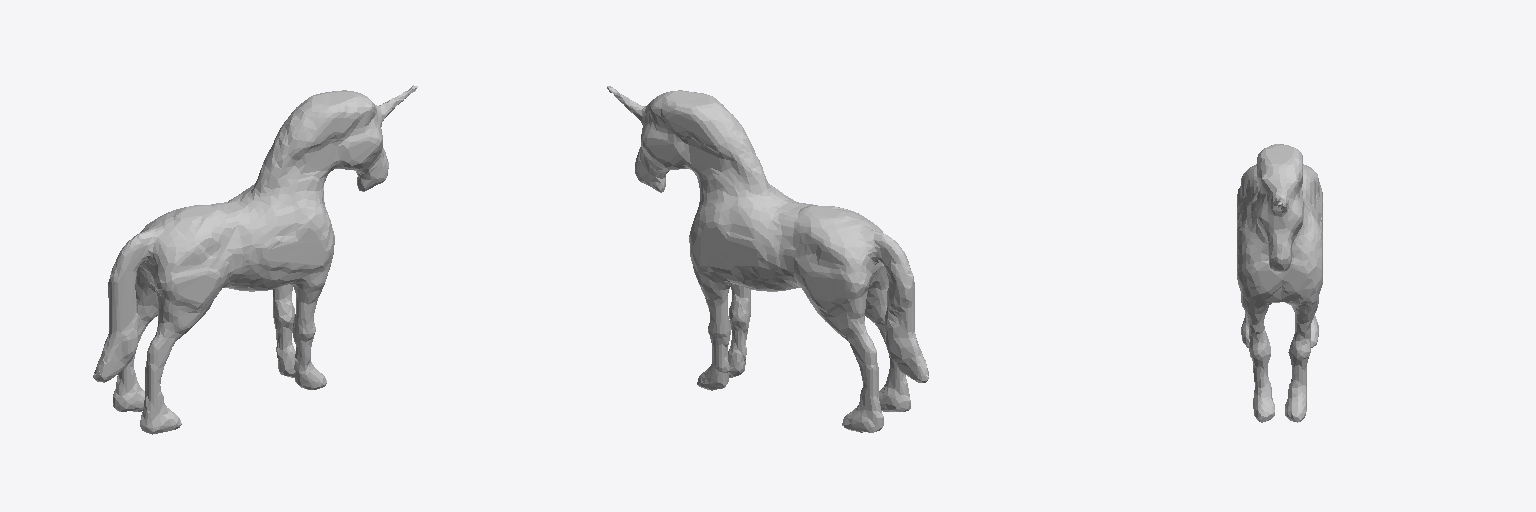
The model's file is unicorn_low.obj.
3 renders of one model, left to right at view 1: azimuth 30°, elevation 25°; view 2: azimuth 150°, elevation 25°; view 3: azimuth 270°, elevation 25°, orthographic.
Parts seen in each view (by area): view 1: unicorn; view 2: unicorn; view 3: unicorn.
Part boxes in pixels (bbox=[...]): unicorn: bbox=[93, 85, 417, 434]; unicorn: bbox=[607, 86, 928, 432]; unicorn: bbox=[1237, 144, 1322, 422].
Size of the model in its own units: 9.61 by 7.9 by 2.2.